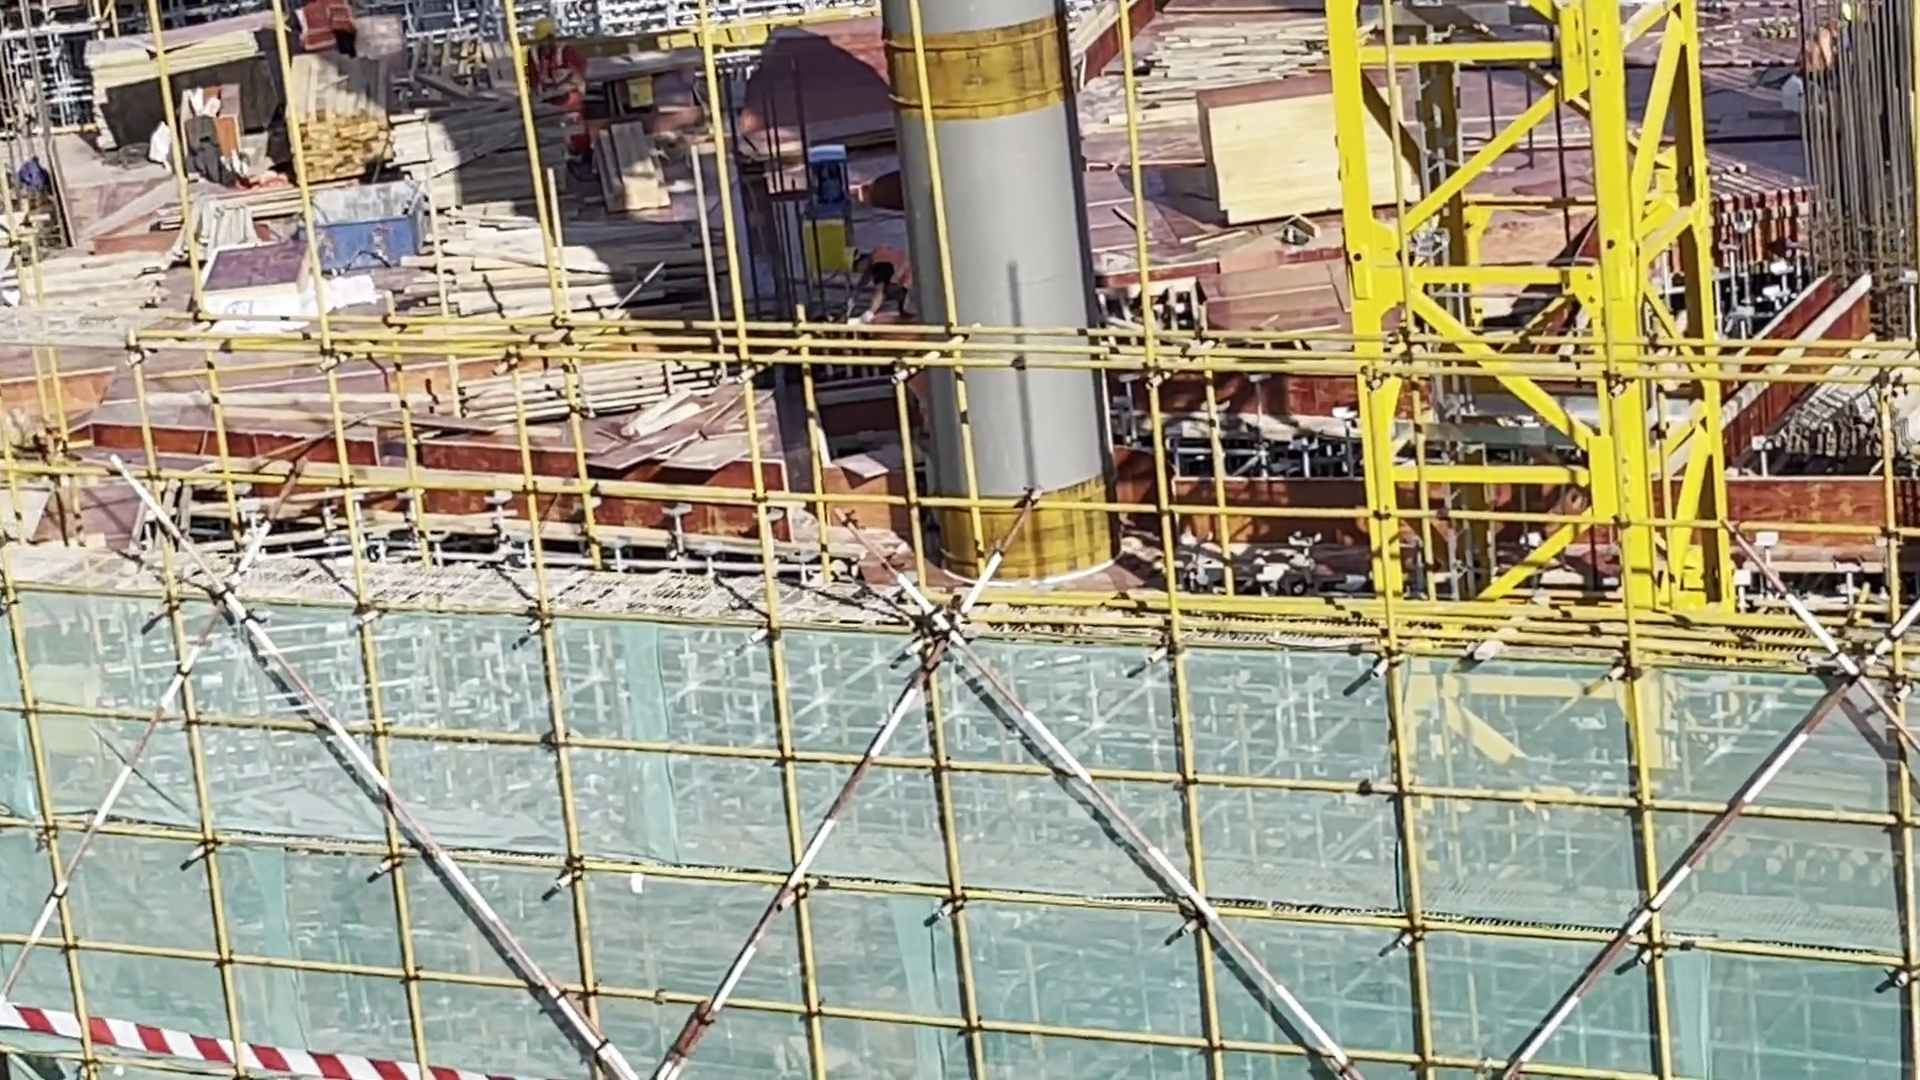board: (311, 375, 747, 478)
helmet: (835, 245, 862, 270)
hopper: (308, 175, 477, 267)
person: (833, 245, 929, 335)
